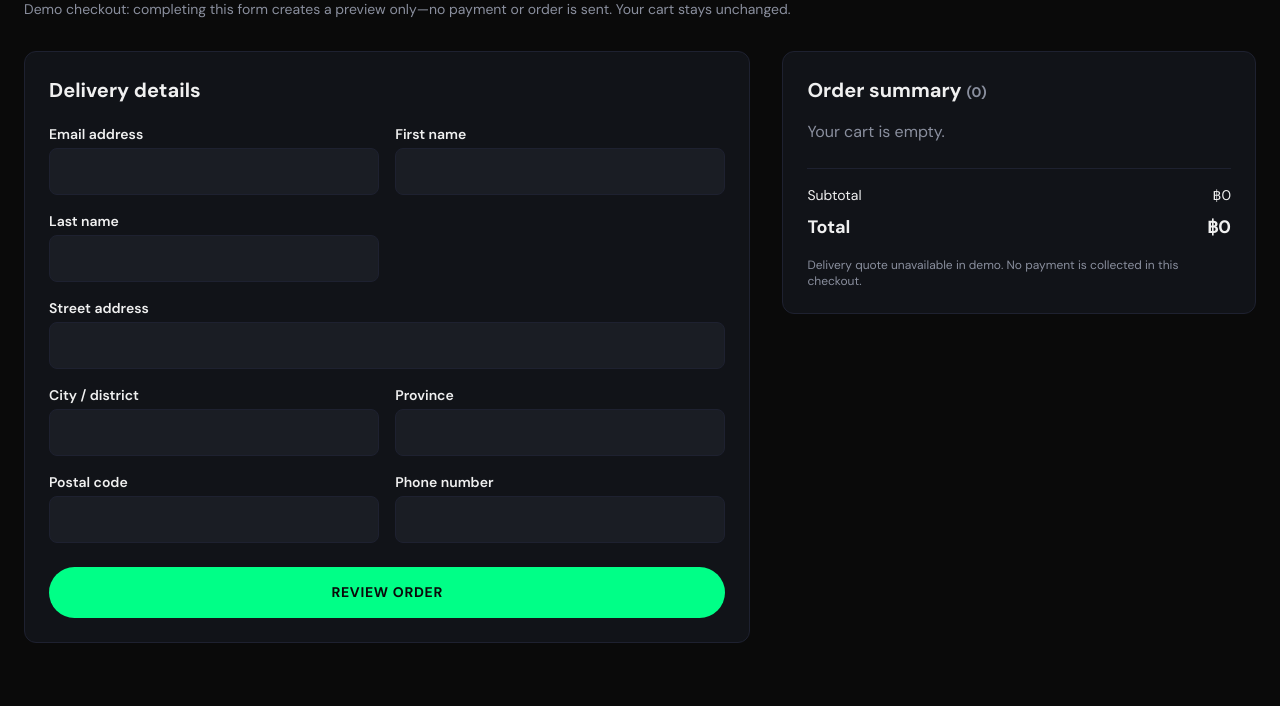
Test: blocks review until required delivery details are entered
(page scrolled)
Click the button "Review order".
click(387, 592)  # box [49,567,725,618]
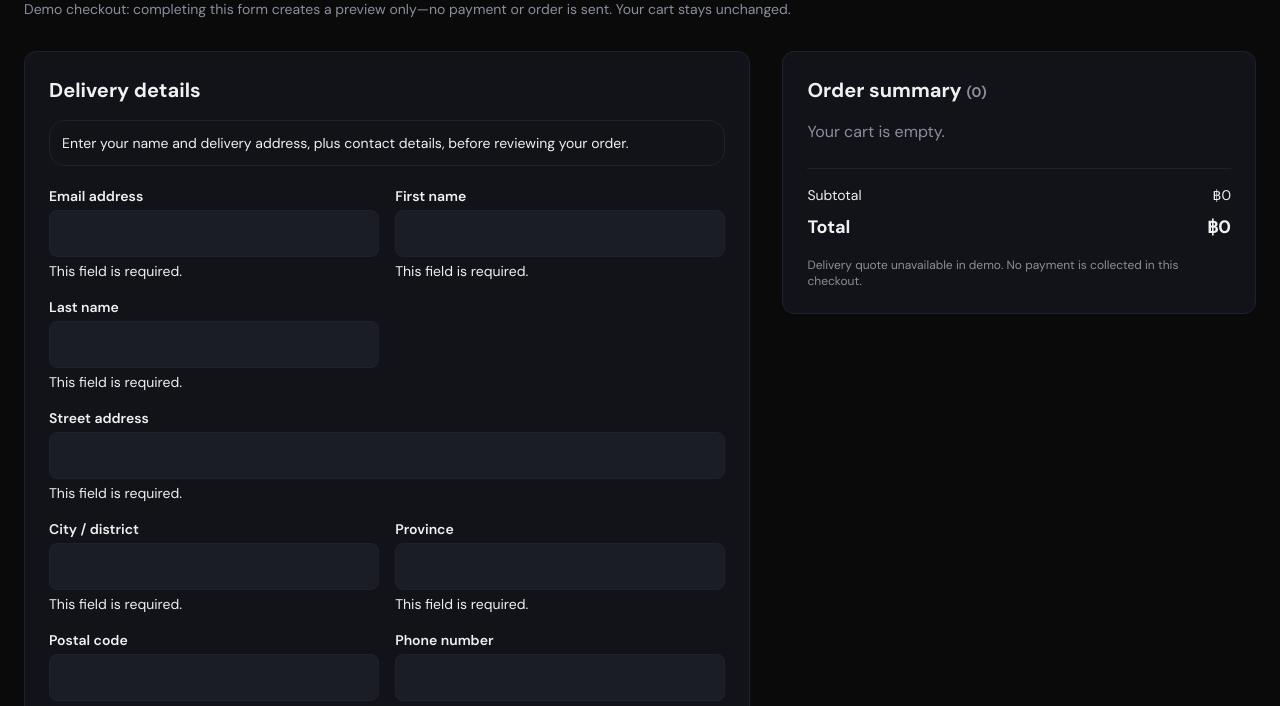
expect the text "Enter your name and delivery address" is shown: met, box [62,134,629,152]
